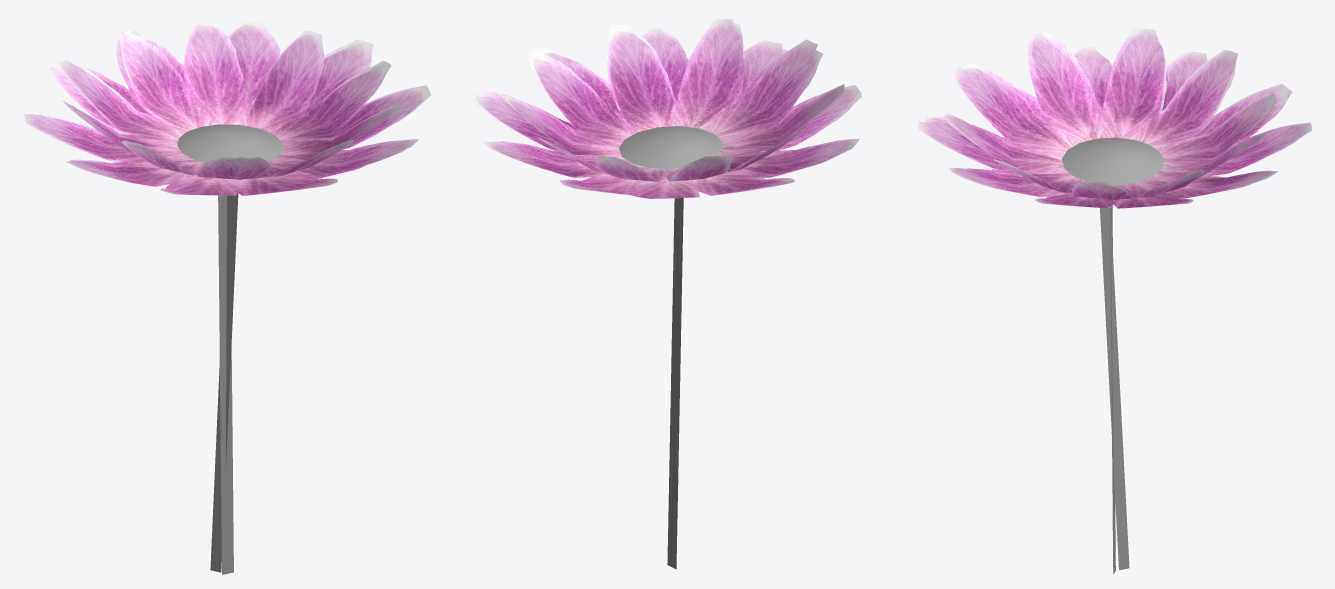
Rendered from flower.fbx.
3 views of the same model, side by side, from view 1: azimuth 30°, elevation 25°; view 2: azimuth 150°, elevation 25°; view 3: azimuth 270°, elevation 25° (orthographic). The views are drawn at different scales.
Visible parts, largest first — view 1: pCylinder16, pCylinder15, pPlane72, pSphere1, pPlane71; view 2: pCylinder16, pCylinder15, pPlane72, pSphere1; view 3: pCylinder16, pCylinder15, pPlane71, pSphere1, pPlane72.
Boxes of the visible parts, x1=… form: pCylinder16: x1=60, y1=21, x2=401, y2=179; pCylinder15: x1=24, y1=22, x2=430, y2=195; pPlane72: x1=218, y1=195, x2=233, y2=574; pSphere1: x1=177, y1=124, x2=283, y2=162; pPlane71: x1=210, y1=193, x2=238, y2=572; pCylinder16: x1=505, y1=19, x2=844, y2=181; pCylinder15: x1=471, y1=28, x2=861, y2=198; pPlane72: x1=667, y1=198, x2=683, y2=569; pSphere1: x1=619, y1=126, x2=722, y2=168; pCylinder16: x1=944, y1=28, x2=1276, y2=199; pCylinder15: x1=918, y1=47, x2=1311, y2=208; pPlane71: x1=1100, y1=208, x2=1129, y2=570; pSphere1: x1=1062, y1=137, x2=1164, y2=185; pPlane72: x1=1110, y1=206, x2=1115, y2=574.
Bounding box in the file's own units: 1.51 × 1.95 × 1.51.
